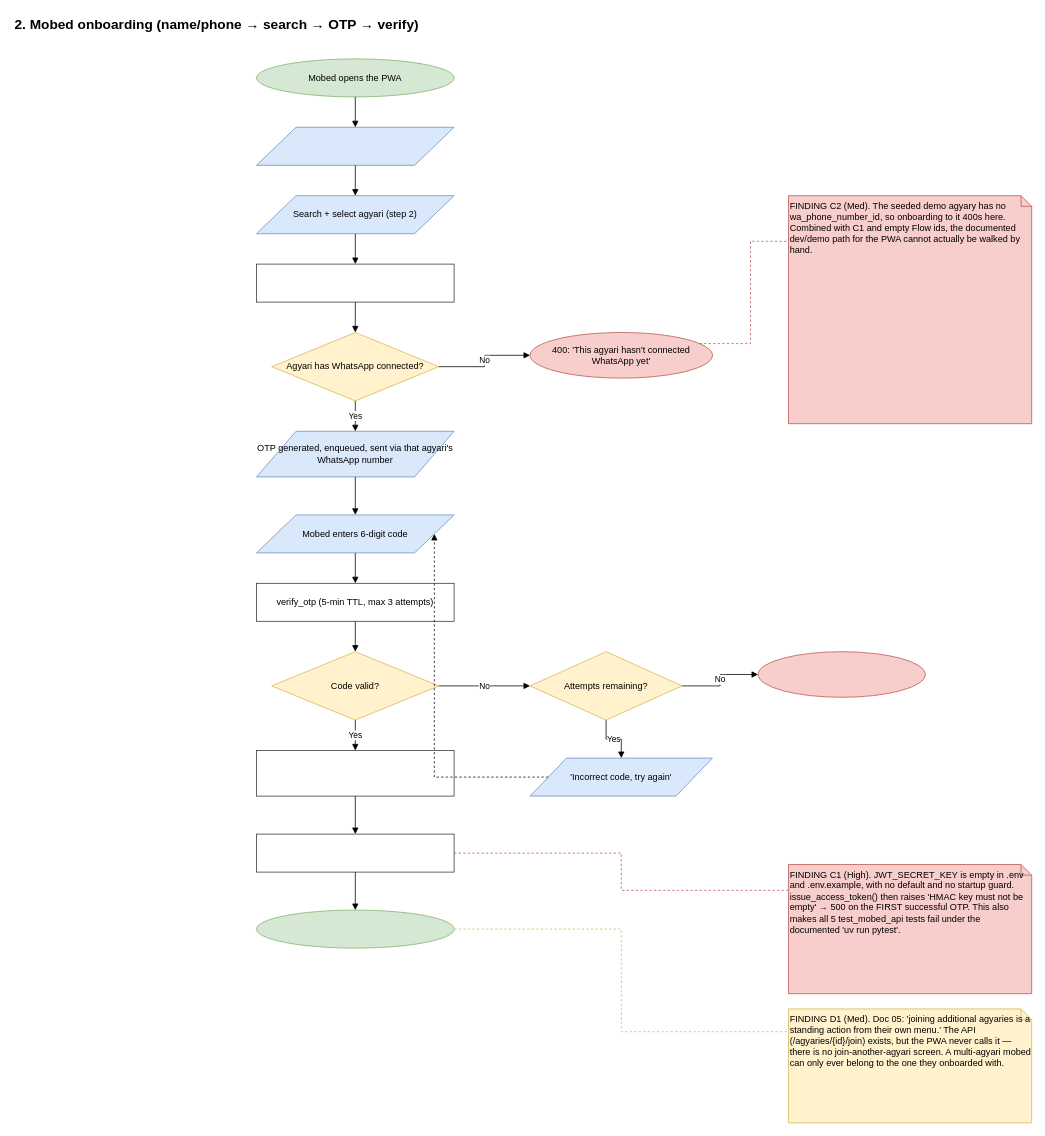
Some shapes in this 1045 by 1136 pixel diagram are drawn without their labels. Here are the shapes that lost their labels. From the top down, the centre of each, then its label:
point 355,146: Enter name + phone (step 1)
point 355,282: POST /auth/request-otp
point 841,674: 'Too many attempts, request a new code'
point 355,773: get_or_create_user + ensure_agyary_membership (role=mobed)
point 355,852: Issue access + refresh JWT
point 355,928: Land in My Day (Flow 7)
